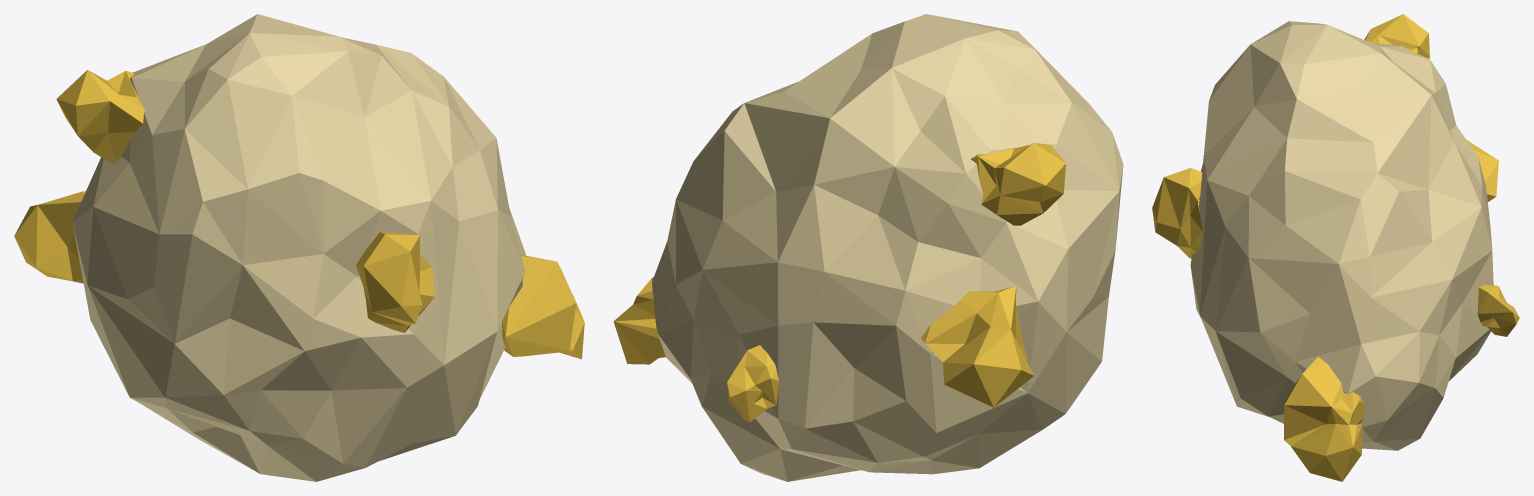
The model's file is MetalOre (8).fbx.
3 views of the same model, side by side, from view 1: azimuth 30°, elevation 25°; view 2: azimuth 150°, elevation 25°; view 3: azimuth 270°, elevation 25° (orthographic). The views are drawn at different scales.
Visible parts, largest first — view 1: Asteroid363; view 2: Asteroid363; view 3: Asteroid363.
Part boxes in pixels (left/top/right/bottom): Asteroid363: left=14, top=14, right=584, bottom=481; Asteroid363: left=613, top=14, right=1123, bottom=481; Asteroid363: left=1152, top=14, right=1519, bottom=481.
Size of the model in its own units: 476 by 426 by 386.
